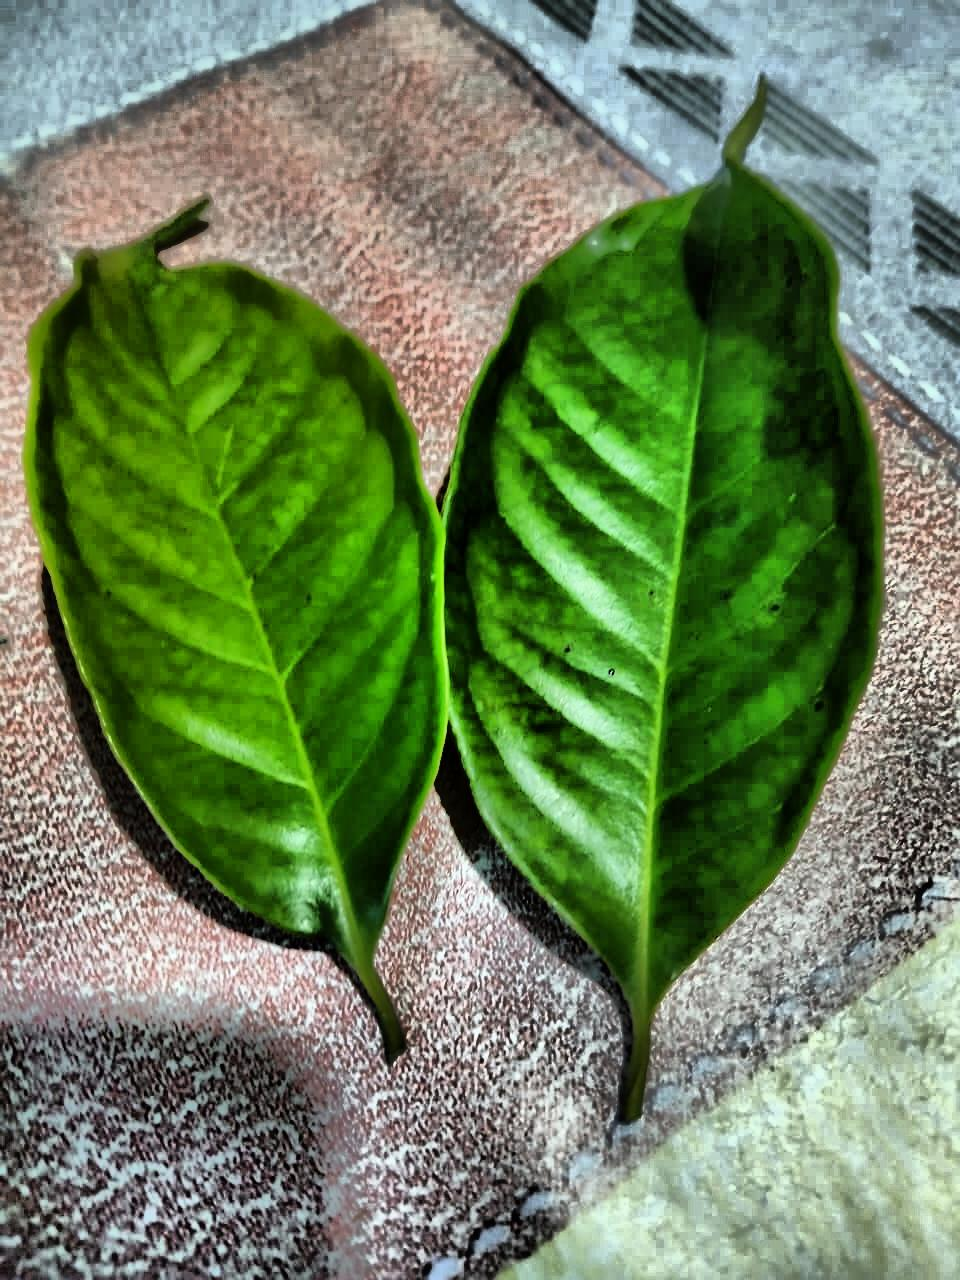daun salam: (445, 92, 878, 1116), (25, 201, 447, 1051)
